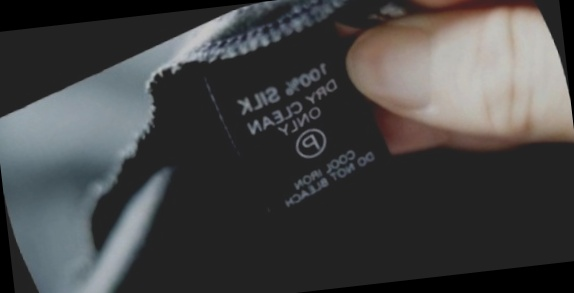dry_clean_any_solvent_except_trichloroethylene: (282, 116, 338, 170)
